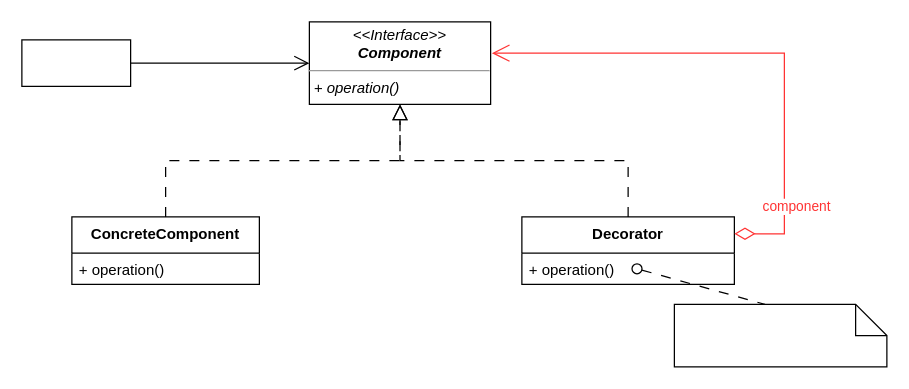
The diagram is 909 pixels wide and 389 high, and some of its shapes have lost their labels. The shapes that lost their labels are listed below. From the top down, each one's centre as x and y in pixels, then its label:
point 76,62: Client
point 780,335: this.component.operation(); // some code...
